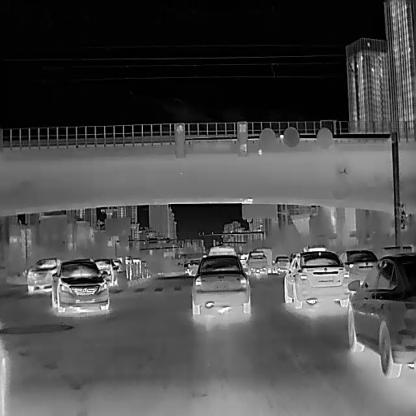car: (346, 252, 416, 377), (283, 250, 350, 307), (190, 254, 250, 314), (52, 259, 108, 312), (338, 248, 379, 284), (27, 256, 61, 291), (94, 258, 118, 286), (244, 250, 267, 275), (252, 247, 272, 272), (272, 255, 289, 274), (207, 245, 236, 254)
